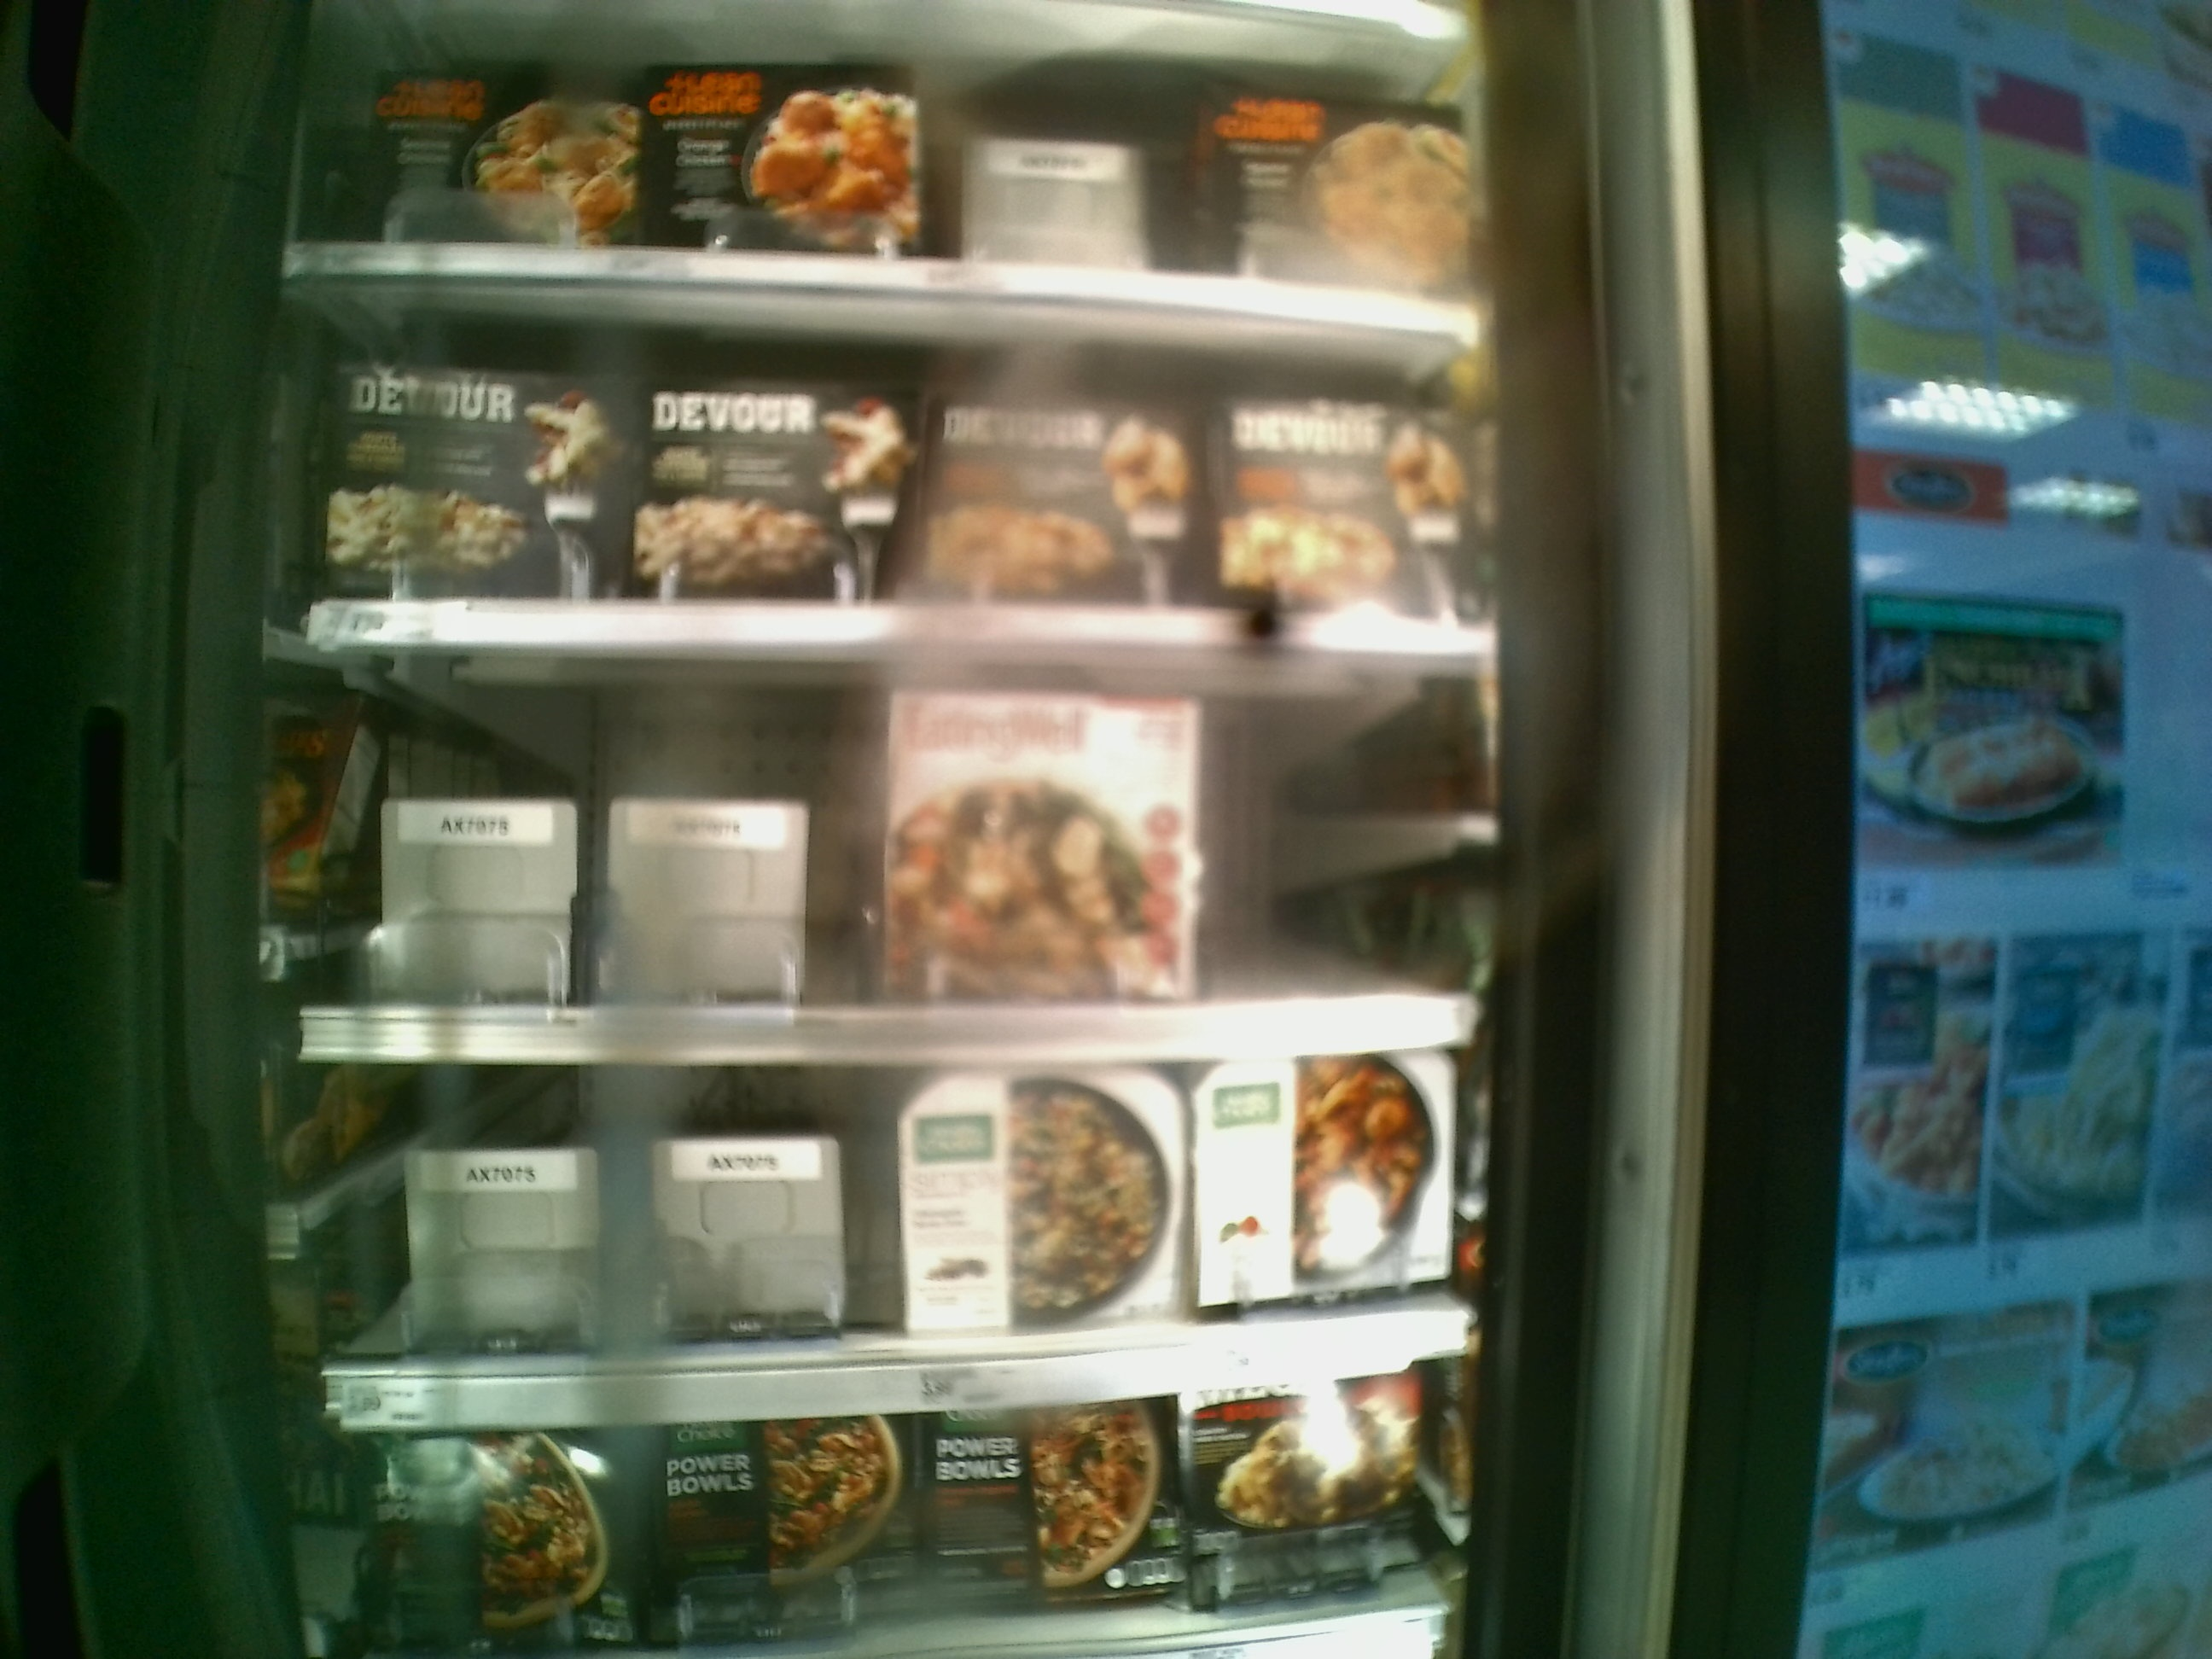Shelf: (303, 633, 1489, 1053), (286, 272, 1486, 657), (301, 1049, 1503, 1429)
